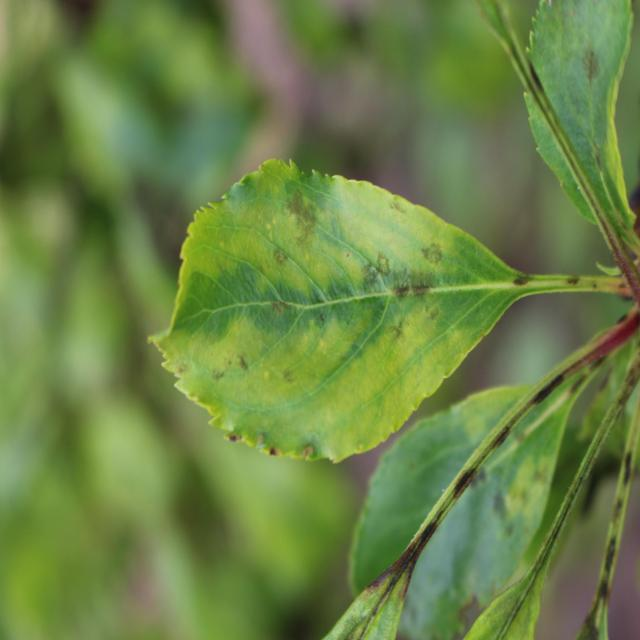scab: (353, 232, 458, 346), (263, 176, 322, 326), (207, 346, 250, 387), (577, 38, 604, 92), (383, 195, 413, 226), (556, 268, 586, 295), (506, 268, 530, 294), (173, 358, 188, 383), (281, 363, 294, 390)
